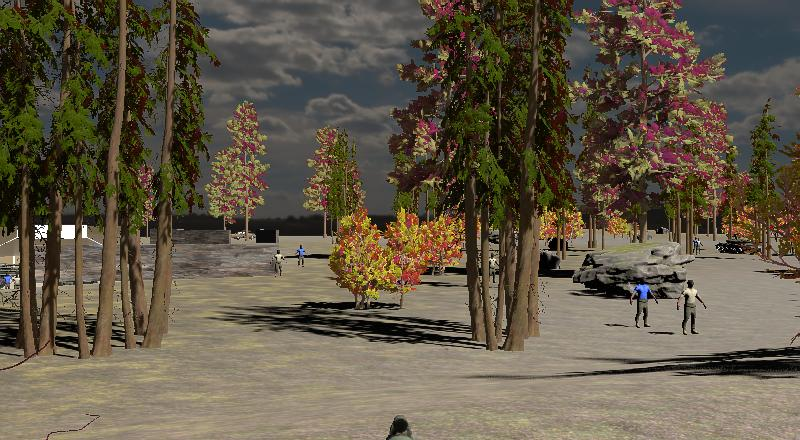Human: (675, 277, 708, 337), (629, 275, 659, 329), (272, 248, 285, 279), (294, 243, 307, 269)
Tank: (714, 233, 759, 256)
